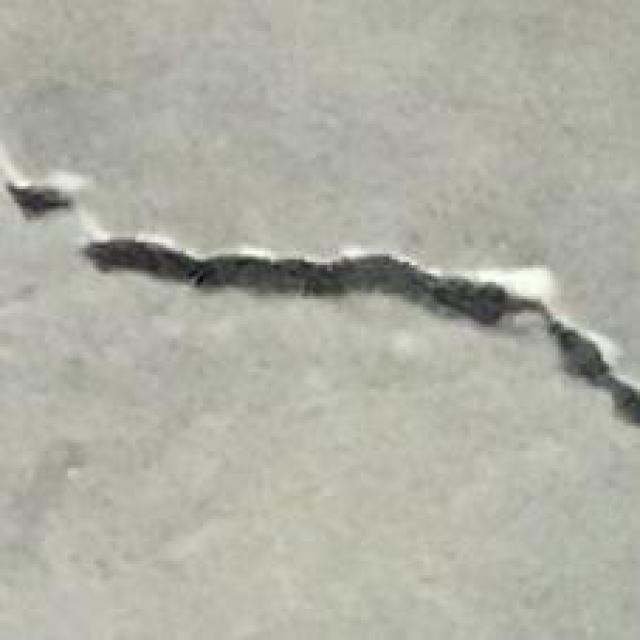Crack: (3, 152, 640, 454)
